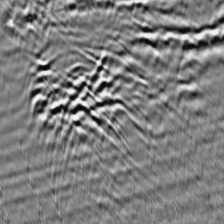cavities: (29, 50, 149, 145)
